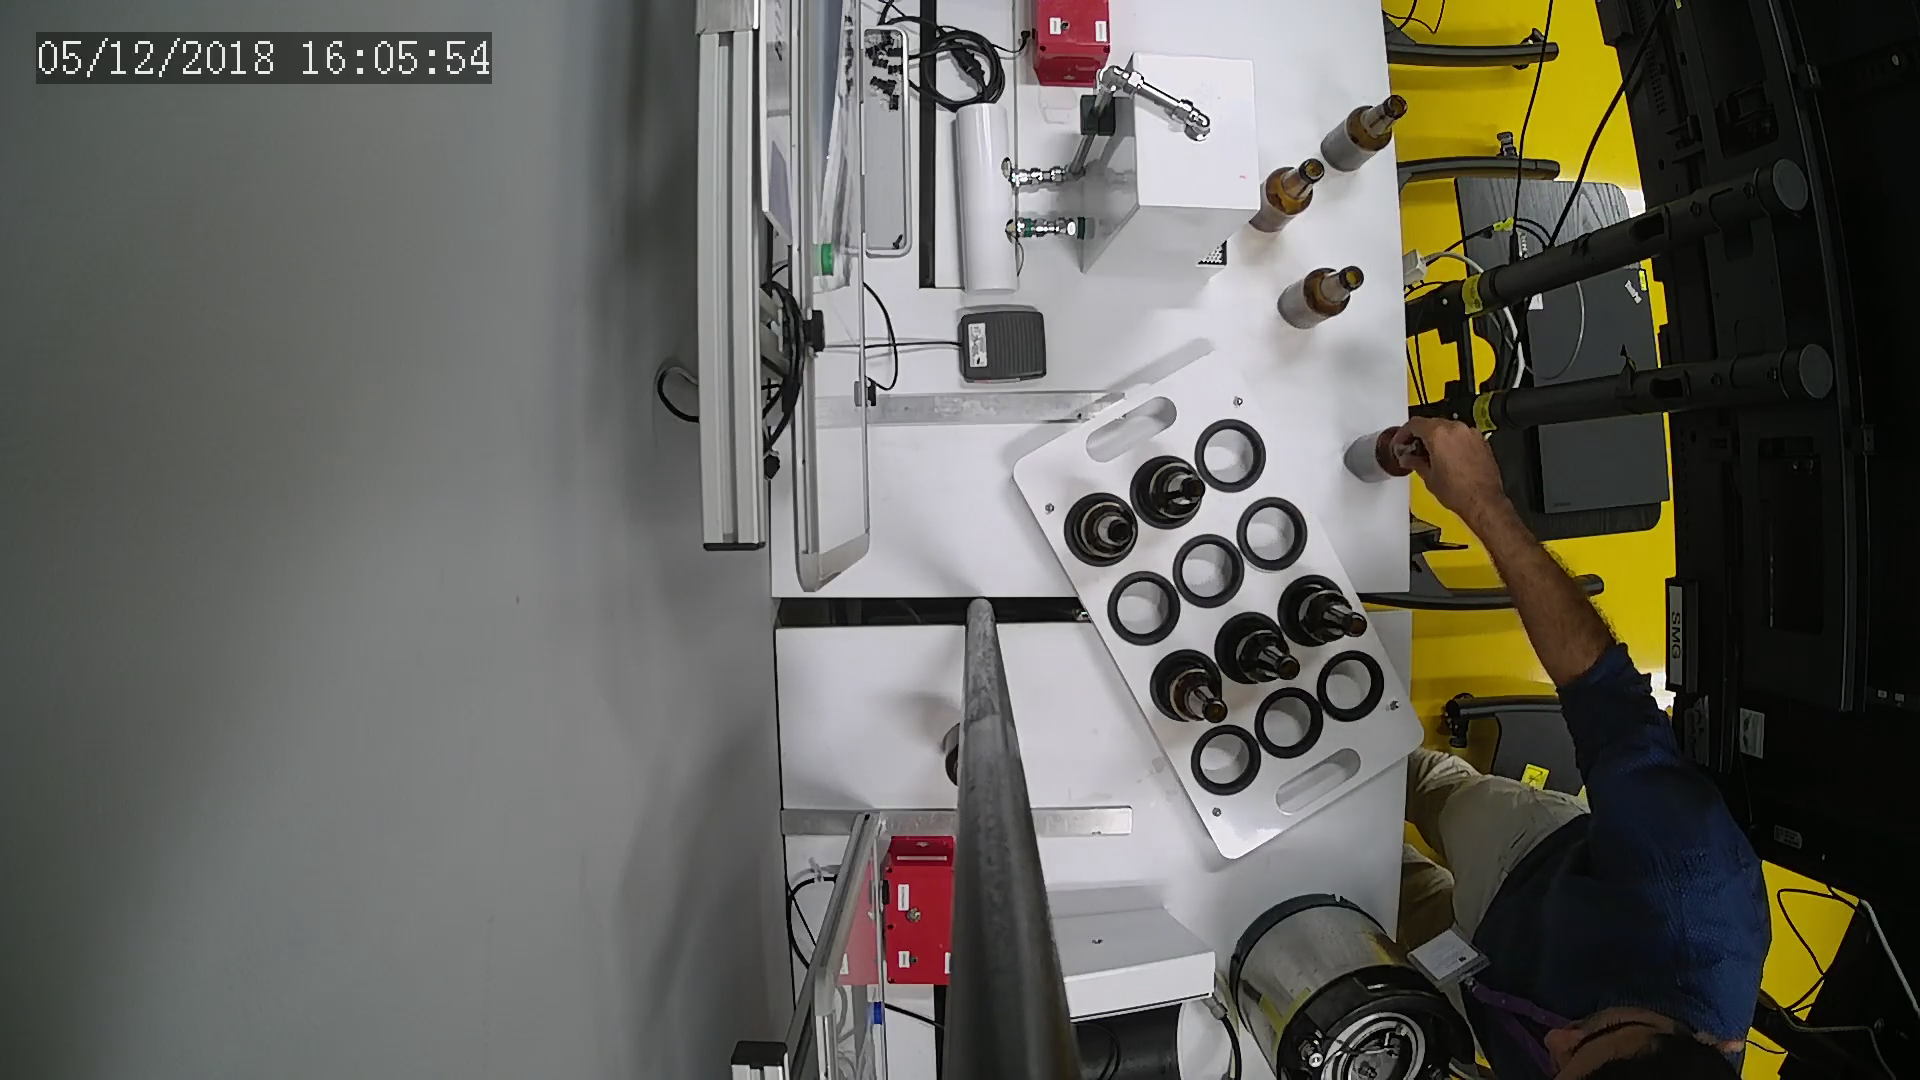filled_bottle: (1153, 653, 1236, 736), (1218, 615, 1305, 691), (1279, 576, 1370, 647), (1133, 459, 1211, 527), (1069, 495, 1141, 564)
trolley: (1007, 347, 1428, 866)
unfilled_bottle: (1323, 88, 1408, 171), (1251, 156, 1328, 237), (1276, 261, 1366, 330)
